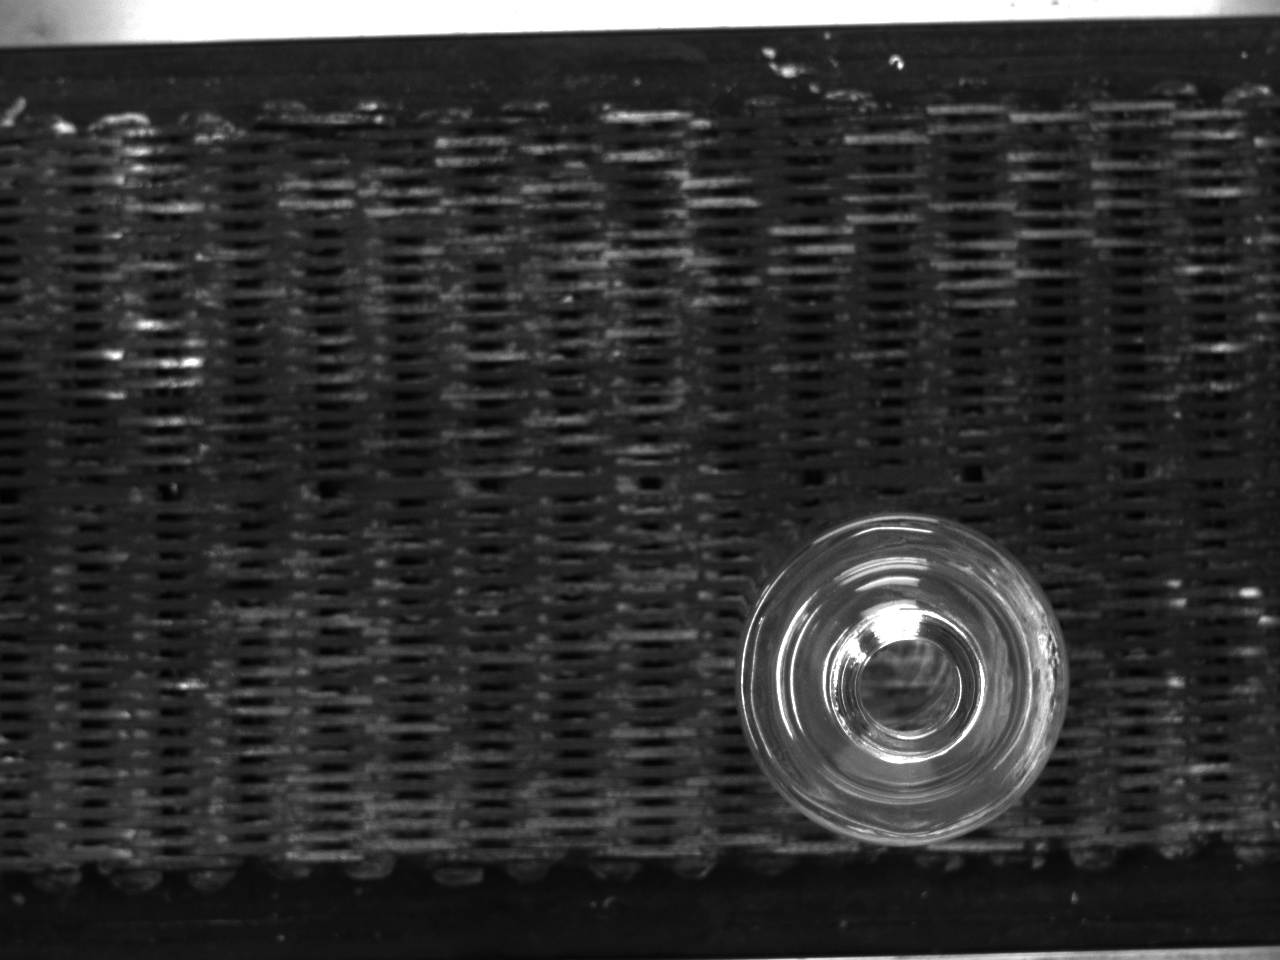bottleneck: (830, 605, 986, 764)
